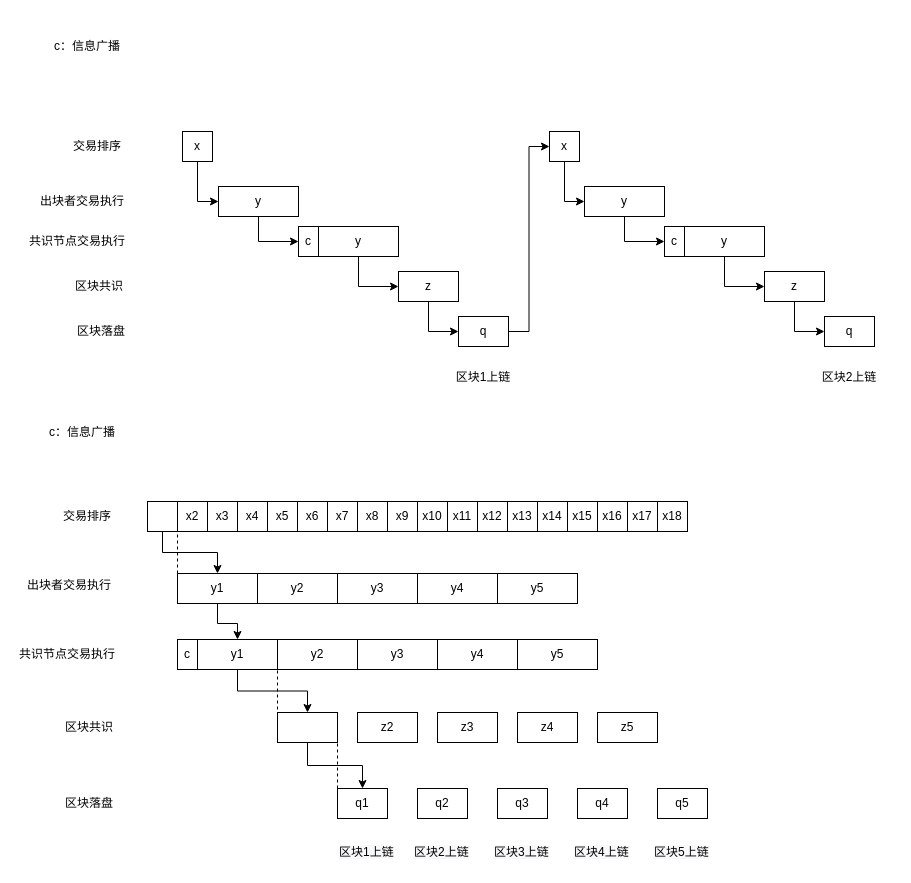
This 911x883 diagram has some shape labels left out. Here are the shapes that lost their labels. From the top down, the centre of each, then its label:
At pixel 162 516: "x1".
At pixel 307 727: "z1".
